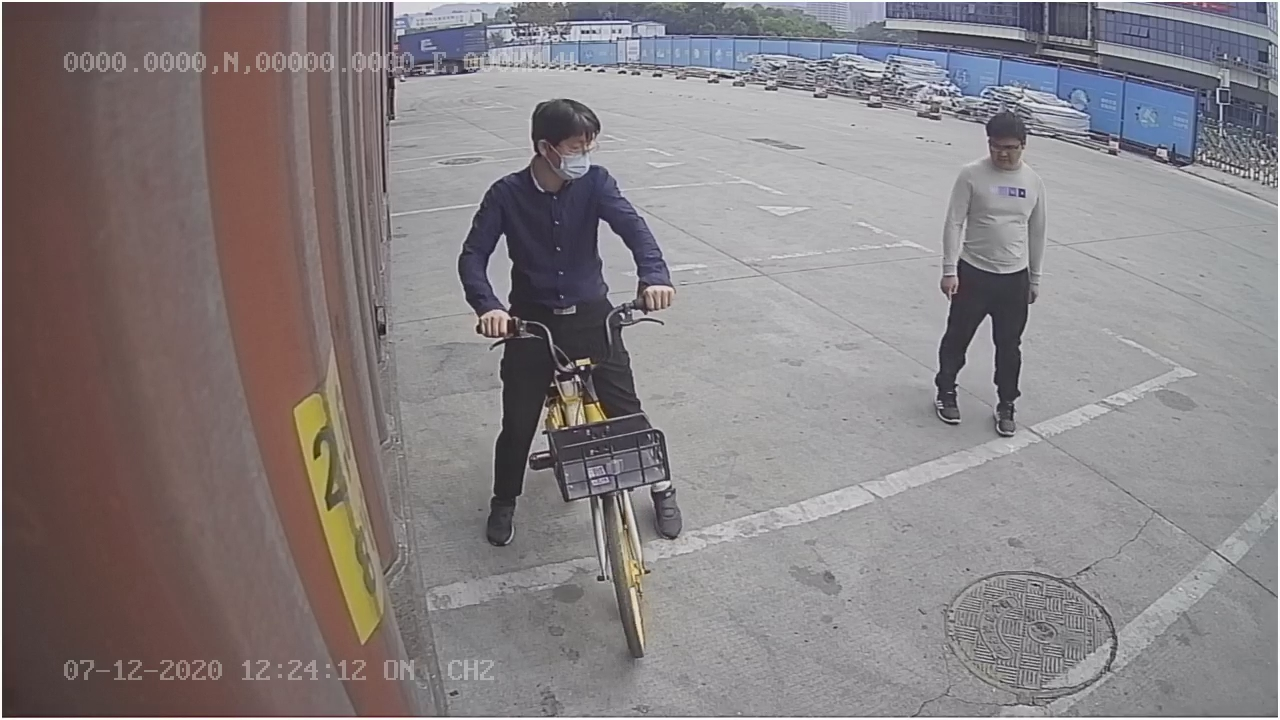person: (925, 108, 1051, 449)
